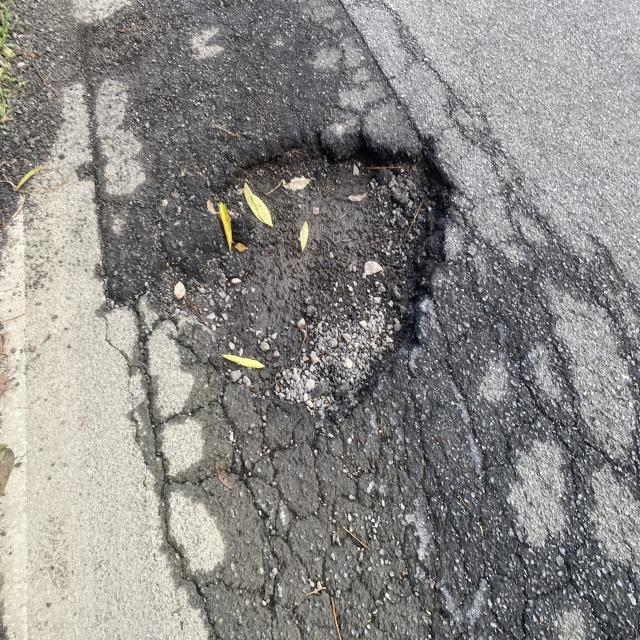Pothole: (216, 128, 530, 464)
